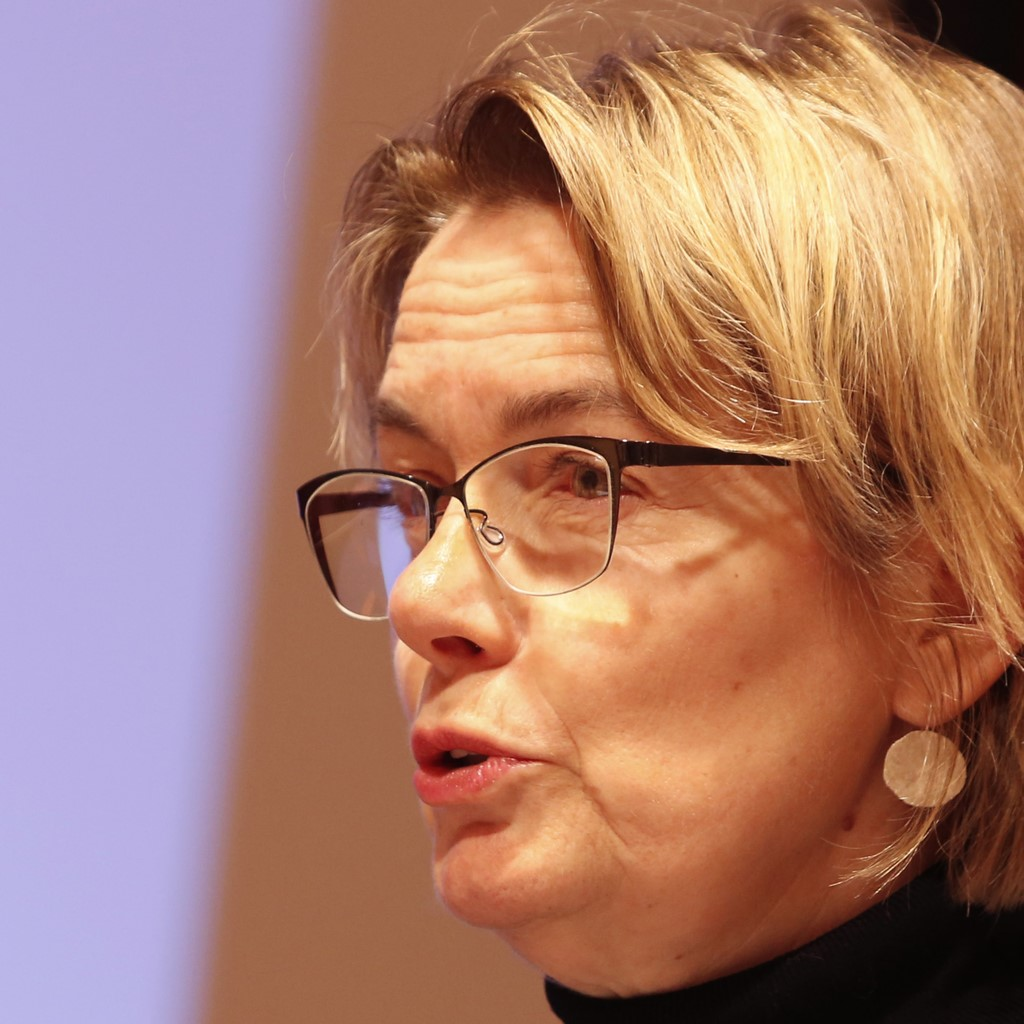sin_mascara: (351, 187, 910, 947)
